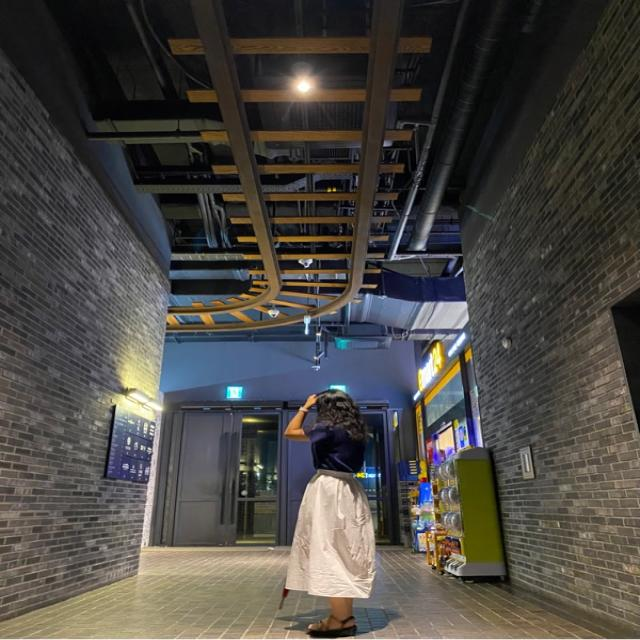shortsleeve: (303, 419, 365, 474)
skirt: (284, 466, 377, 599)
